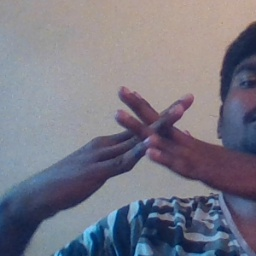W: (88, 75, 212, 198)
